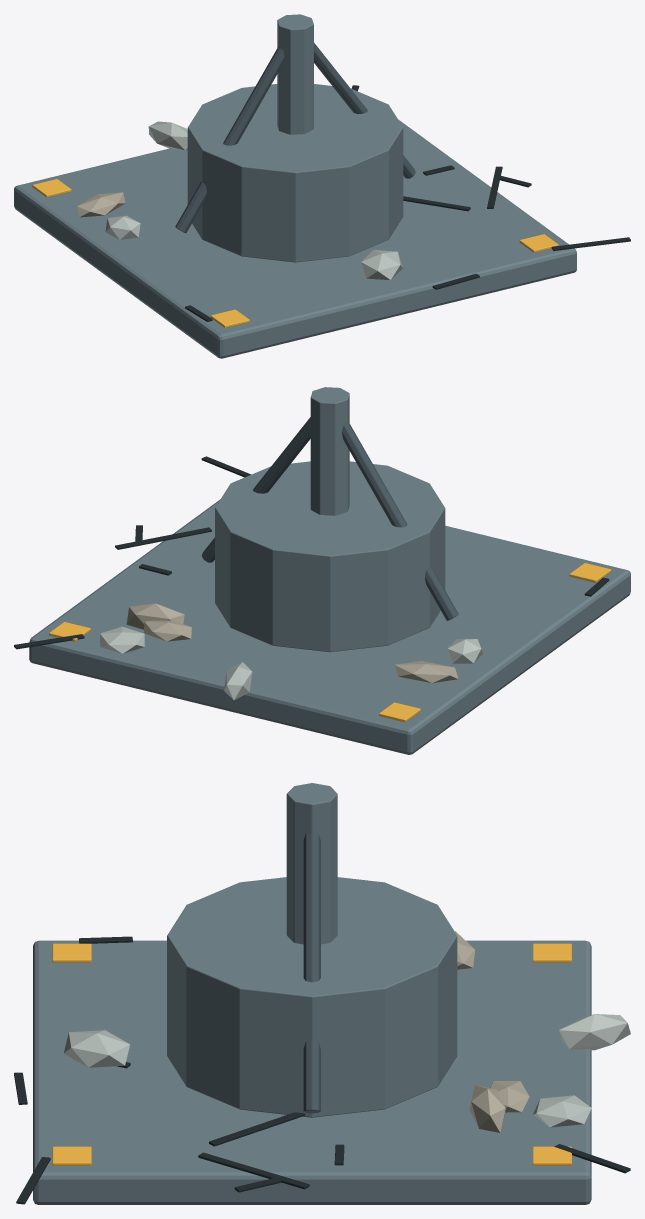
The model's file is command_comms_d2.glb.
3 views of the same model, one above another, from view 1: azimuth 30°, elevation 25°; view 2: azimuth 150°, elevation 25°; view 3: azimuth 270°, elevation 25° (orthographic). The views are drawn at different scales.
Parts seen in each view (by area): view 1: Foundation.022, Azimuth pedestal.002, Relay mast.002, Mast stabilizer.004, Mast stabilizer.005, Bounded fractured debris.137, Bounded fractured debris.134, Bounded fractured debris.136, Bounded fractured debris.132; view 2: Foundation.022, Azimuth pedestal.002, Relay mast.002, Mast stabilizer.004, Mast stabilizer.005, Bounded fractured debris.136, Bounded fractured debris.133, Bounded fractured debris.135, Bounded fractured debris.130, Bounded fractured debris.134, Bounded fractured debris.132, Scorched impact.142 (+2 smaller); view 3: Foundation.022, Azimuth pedestal.002, Relay mast.002, Mast stabilizer.005, Bounded fractured debris.137, Bounded fractured debris.134, Bounded fractured debris.135, Bounded fractured debris.133, Bounded fractured debris.130, Corner locator.088, Corner locator.090, Corner locator.089 (+3 smaller).
Boxes of the visible parts, x1,y1,x2,y2 form: Foundation.022: (14, 119, 576, 358); Azimuth pedestal.002: (187, 84, 403, 262); Relay mast.002: (277, 14, 313, 134); Mast stabilizer.004: (175, 46, 284, 232); Mast stabilizer.005: (314, 43, 415, 178); Bounded fractured debris.137: (361, 250, 402, 280); Bounded fractured debris.134: (148, 121, 187, 150); Bounded fractured debris.136: (77, 192, 125, 217); Bounded fractured debris.132: (105, 215, 140, 239); Foundation.022: (29, 499, 630, 754); Azimuth pedestal.002: (215, 461, 445, 652); Relay mast.002: (310, 387, 349, 515); Mast stabilizer.004: (342, 421, 458, 620); Mast stabilizer.005: (202, 417, 310, 562); Bounded fractured debris.136: (394, 661, 458, 683); Bounded fractured debris.133: (126, 603, 184, 630); Bounded fractured debris.135: (100, 626, 144, 653); Bounded fractured debris.130: (144, 620, 191, 641); Bounded fractured debris.134: (224, 662, 252, 700); Bounded fractured debris.132: (447, 639, 482, 663); Scorched impact.142: (115, 527, 211, 549); Foundation.022: (33, 940, 591, 1204); Azimuth pedestal.002: (167, 877, 457, 1117); Relay mast.002: (286, 783, 337, 944); Mast stabilizer.005: (303, 833, 320, 1113); Bounded fractured debris.137: (63, 1030, 129, 1067); Bounded fractured debris.134: (559, 1014, 630, 1050); Bounded fractured debris.135: (533, 1095, 591, 1127); Bounded fractured debris.133: (469, 1085, 505, 1132); Bounded fractured debris.130: (490, 1081, 529, 1112); Corner locator.088: (52, 943, 91, 962); Corner locator.090: (52, 1146, 91, 1165); Corner locator.089: (533, 943, 571, 962).
Bounding box in the file's own units: 5.66 × 2.92 × 5.52.
